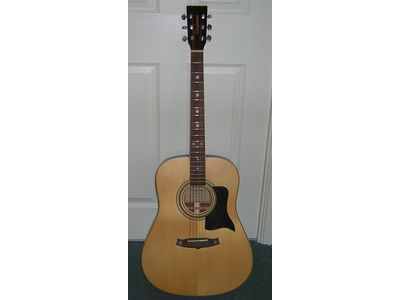guitar: (138, 3, 253, 298)
